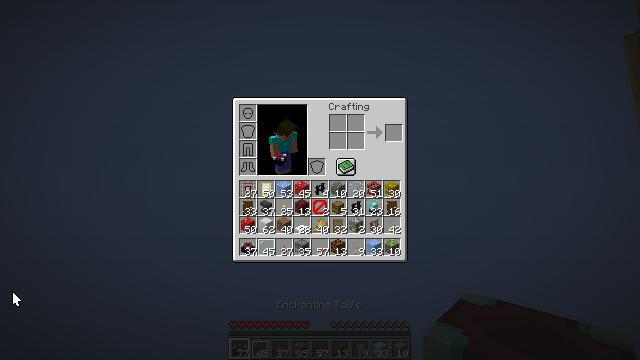cursor: (291, 12, 307, 22)
